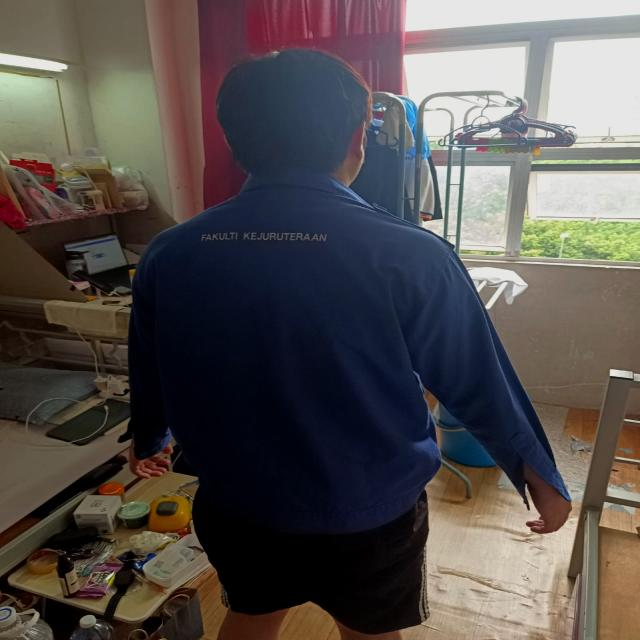person_with_labcoat: (121, 49, 571, 640)
